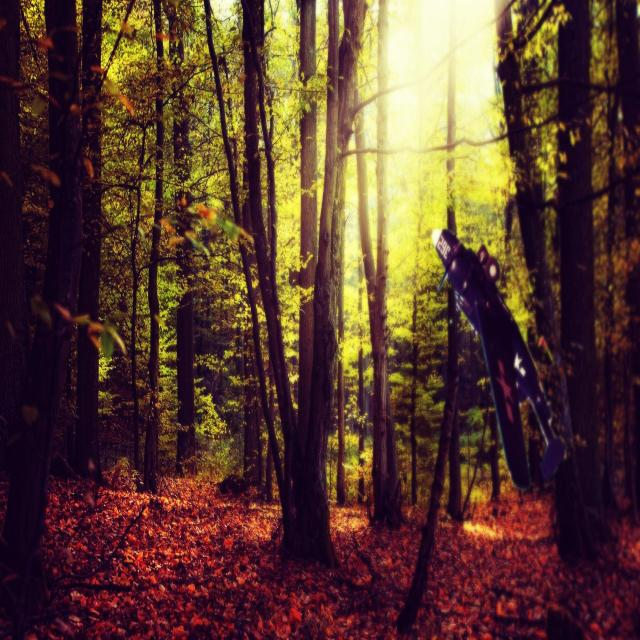airplane: (431, 226, 566, 492)
